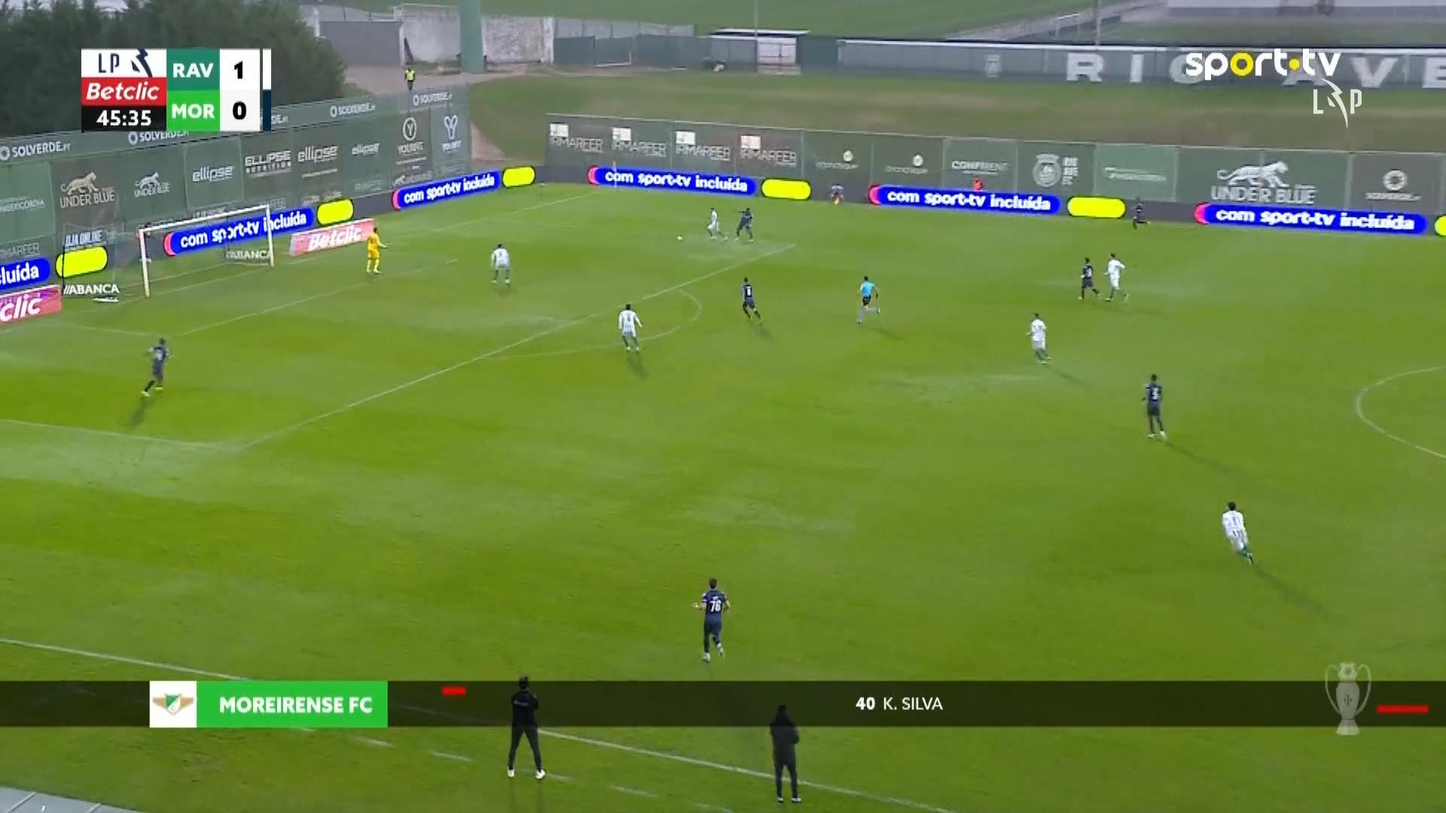ball: (534, 769, 545, 780), (676, 235, 682, 240)
goalkeeper: (364, 226, 388, 274)
player: (692, 577, 731, 662), (1220, 500, 1253, 565), (140, 336, 171, 397), (1140, 373, 1166, 440), (1103, 251, 1129, 302), (617, 302, 643, 352), (1027, 311, 1051, 362), (739, 276, 761, 321), (1077, 257, 1100, 300), (489, 242, 511, 285), (734, 206, 754, 242), (706, 206, 725, 240), (1130, 196, 1149, 230)
referee: (505, 674, 545, 780), (768, 703, 802, 802), (856, 274, 880, 323), (828, 182, 844, 205)
